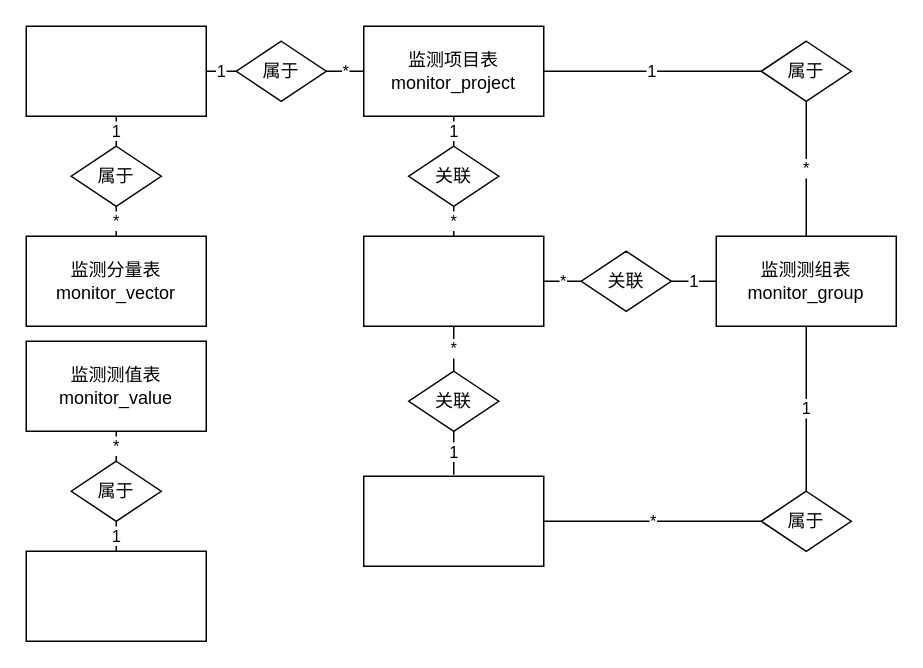
This 923x668 diagram has some shape labels left out. Here are the shapes that lost their labels. From the top down, the centre of each, then its label:
(x=115, y=70): 监测类型表 monitor_type
(x=453, y=280): 导航节点信息表 nav_node
(x=453, y=520): 监测测点表 monitor_point
(x=115, y=595): 监测阈值等级表 monitor_threshold
